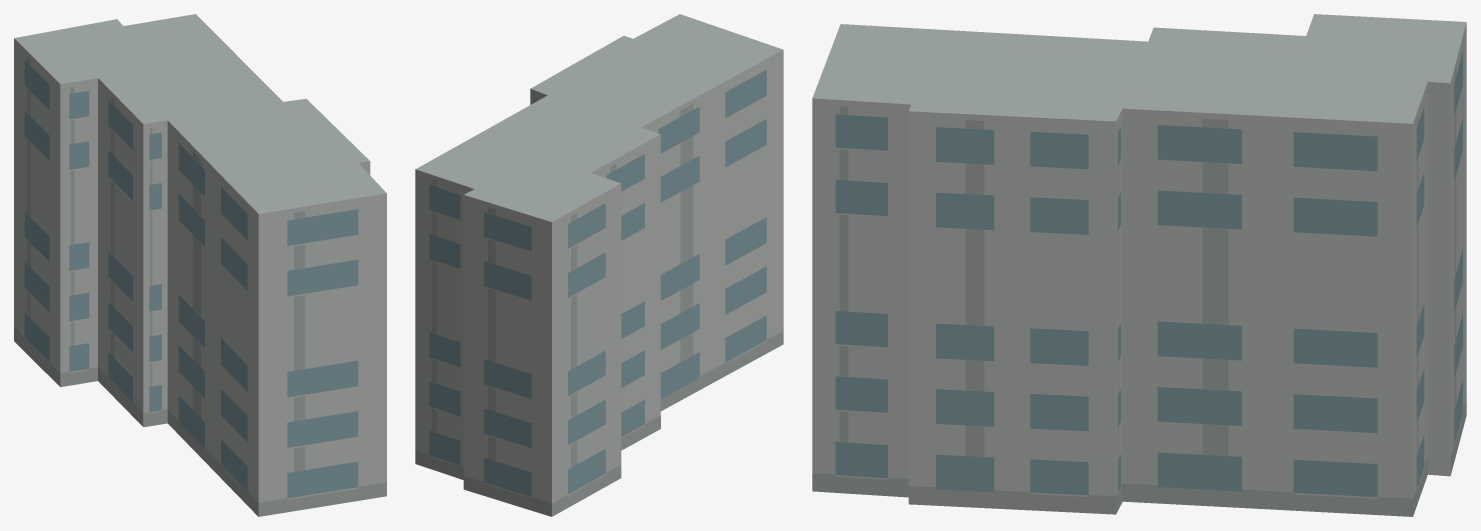
File: survey-upis-32566133.glb
3 renders of one model, left to right at view 1: azimuth 30°, elevation 25°; view 2: azimuth 150°, elevation 25°; view 3: azimuth 270°, elevation 25°, orthographic. The views are drawn at different scales.
Visible parts, largest first — view 1: survey-upis-32566133.tmp; view 2: survey-upis-32566133.tmp; view 3: survey-upis-32566133.tmp.
Part boxes in pixels (left/top/right/bottom): survey-upis-32566133.tmp: left=14, top=14, right=386, bottom=516; survey-upis-32566133.tmp: left=415, top=14, right=783, bottom=516; survey-upis-32566133.tmp: left=812, top=14, right=1466, bottom=516.
Bounding box in the file's own units: 9.66 × 16.1 × 24.3.
